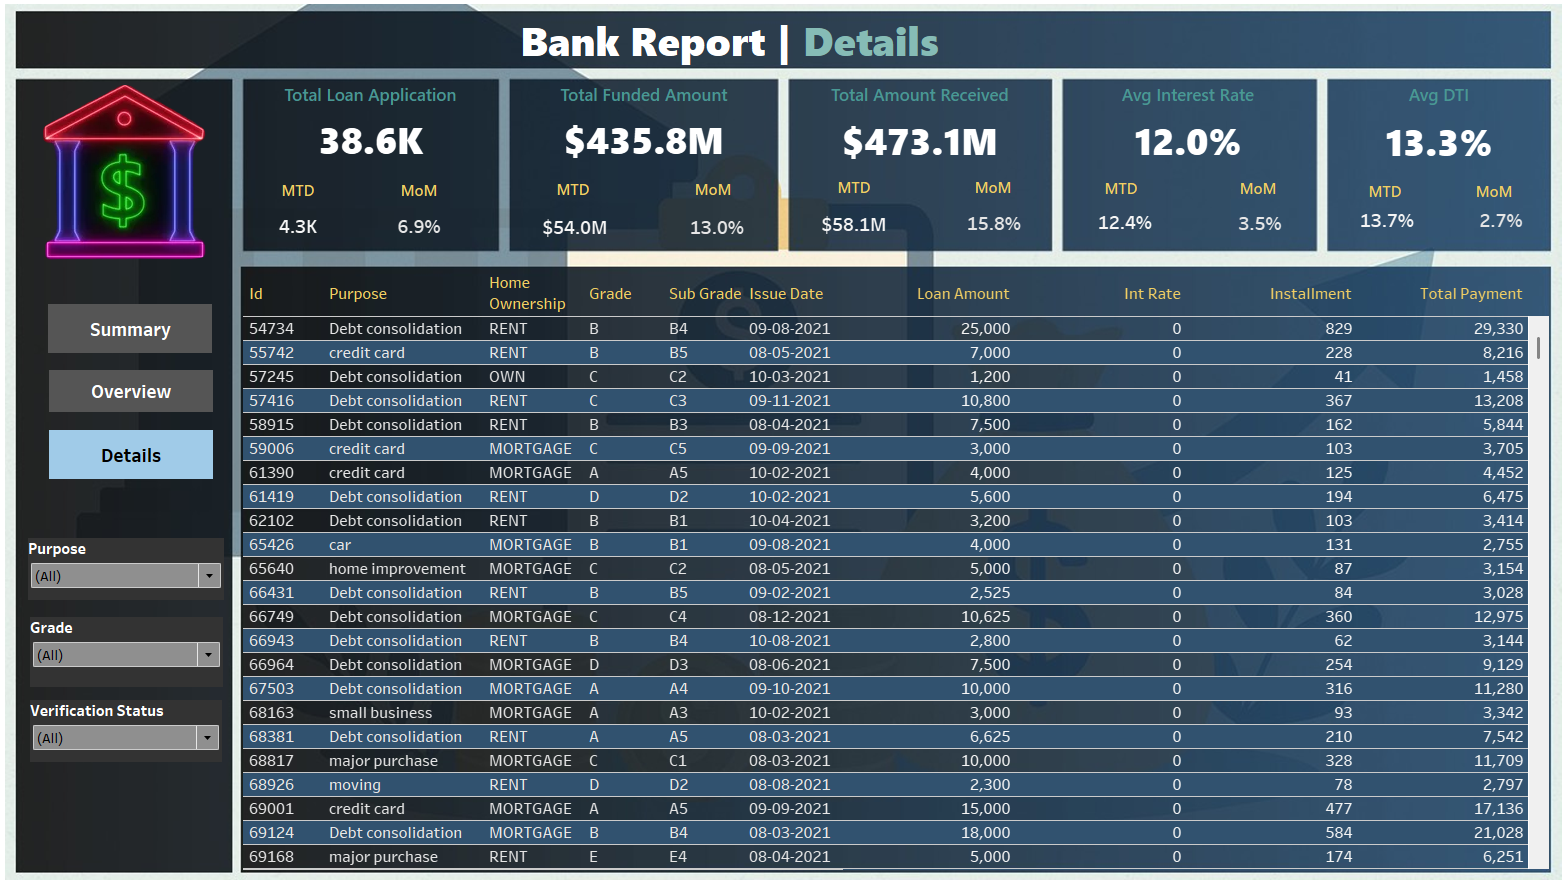

The page's visual inventory and layout, read from the dashboard file:
{"tool":"tableau","page":{"name":"DETAILS","canvas":[1600,900],"ordinal":0},"visuals":[{"type":"image","param":"Image/My Background Layout 3.jpg","box":[8,8,1584,884]},{"type":"text","box":[533,23,488,50]},{"type":"worksheet","title":"Total Loan Application","mark":"Automatic","box":[259,87,255,82]},{"type":"worksheet","title":"Total Funded Amount","mark":"Automatic","box":[526,87,268,82]},{"type":"worksheet","title":"Total Amount Received","mark":"Automatic","box":[805,87,262,83]},{"type":"worksheet","title":"Avg Interest Rate","mark":"Automatic","box":[1079,87,250,84]},{"type":"worksheet","title":"Avg DTI","mark":"Automatic","box":[1344,87,222,85]},{"type":"image","param":"Image/Adobe Express - file.png","box":[37,93,204,190]},{"type":"text","box":[820,180,100,30]},{"type":"text","box":[959,180,100,30]},{"type":"text","box":[1087,181,100,30]},{"type":"text","box":[1224,181,100,30]},{"type":"text","box":[539,182,100,30]},{"type":"text","box":[679,182,100,30]},{"type":"text","box":[264,183,100,30]},{"type":"text","box":[385,183,100,30]},{"type":"text","box":[1351,184,100,30]},{"type":"text","box":[1460,184,100,30]},{"type":"worksheet","title":"MTD Avg DTI","mark":"Automatic","box":[1369,203,67,49]},{"type":"worksheet","title":"MTD Avg Interest Rate","mark":"Automatic","box":[1105,205,72,49]},{"type":"worksheet","title":"MoM Avg DTI","mark":"Automatic","box":[1486,205,63,46]},{"type":"worksheet","title":"MoM Total Amount Received","mark":"Automatic","box":[970,207,79,48]},{"type":"worksheet","title":"MTD Total Amount Received","mark":"Automatic","box":[831,208,78,47]},{"type":"worksheet","title":"MoM Avg Interest Rate","mark":"Automatic","box":[1237,209,77,43]},{"type":"worksheet","title":"MTD Total Loan Application","mark":"Automatic","box":[280,211,67,46]},{"type":"worksheet","title":"MTD Total Funded Amount","mark":"Automatic","box":[554,212,73,45]},{"type":"worksheet","title":"MoM Loan Application","mark":"Automatic","box":[406,213,57,42]},{"type":"worksheet","title":"MoM Total Funded Amount","mark":"Automatic","box":[699,213,68,44]},{"type":"worksheet","title":"Details Tab","mark":"Automatic","rows":["id","purpose","home_ownership","grade","sub_grade","issue_date"],"box":[259,278,1306,600]},{"type":"dashboard-object","box":[64,312,164,49]},{"type":"dashboard-object","box":[65,378,164,42]},{"type":"dashboard-object","box":[65,438,164,49]},{"type":"filter","title":"Avg DTI","param":"[federated.0udsdu11p73yy70zzkvhk0izcd7r].[none:purpose:nk]","box":[44,546,196,62]},{"type":"filter","title":"Avg DTI","param":"[federated.0udsdu11p73yy70zzkvhk0izcd7r].[none:grade:nk]","box":[46,625,193,70]},{"type":"filter","title":"Avg DTI","param":"[federated.0udsdu11p73yy70zzkvhk0izcd7r].[none:verification_status:nk]","box":[46,708,192,62]}]}

Visuals, with their boxes in screenshot pixels (x1, y1, x2, y2), scaled from the page's 1600x900 canvas onto the 1563x883 screenshot:
image: (8,8,1555,875)
text: (521,23,997,72)
"Total Loan Application" worksheet: (253,85,502,166)
"Total Funded Amount" worksheet: (514,85,776,166)
"Total Amount Received" worksheet: (786,85,1042,167)
"Avg Interest Rate" worksheet: (1054,85,1298,168)
"Avg DTI" worksheet: (1313,85,1530,169)
image: (36,91,235,278)
text: (801,177,899,206)
text: (937,177,1035,206)
text: (1062,178,1160,207)
text: (1196,178,1293,207)
text: (527,179,624,208)
text: (663,179,761,208)
text: (258,180,356,209)
text: (376,180,474,209)
text: (1320,181,1417,210)
text: (1426,181,1524,210)
"MTD Avg DTI" worksheet: (1337,199,1403,247)
"MTD Avg Interest Rate" worksheet: (1079,201,1150,249)
"MoM Avg DTI" worksheet: (1452,201,1513,246)
"MoM Total Amount Received" worksheet: (948,203,1025,250)
"MTD Total Amount Received" worksheet: (812,204,888,250)
"MoM Avg Interest Rate" worksheet: (1208,205,1284,247)
"MTD Total Loan Application" worksheet: (274,207,339,252)
"MTD Total Funded Amount" worksheet: (541,208,613,252)
"MoM Loan Application" worksheet: (397,209,452,250)
"MoM Total Funded Amount" worksheet: (683,209,749,252)
"Details Tab" worksheet: (253,273,1529,861)
dashboard-object: (63,306,223,354)
dashboard-object: (63,371,224,412)
dashboard-object: (63,430,224,478)
"Avg DTI" filter: (43,536,234,597)
"Avg DTI" filter: (45,613,233,682)
"Avg DTI" filter: (45,695,232,755)
